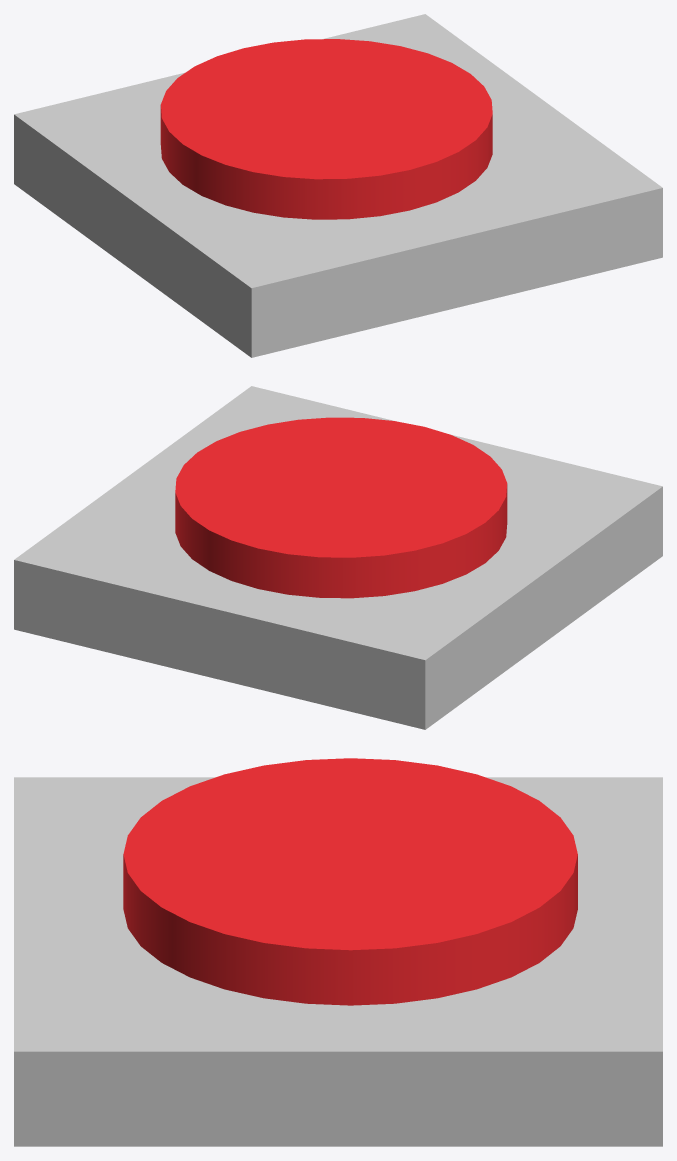
The model's file is кнопкааа.fbx.
The picture shows the model from 3 angles, top to bottom: view 1: azimuth 30°, elevation 25°; view 2: azimuth 150°, elevation 25°; view 3: azimuth 270°, elevation 25°; orthographic projection. The views are drawn at different scales.
Visible parts, largest first — view 1: кнопка.001, кнопка.002; view 2: кнопка.001, кнопка.002; view 3: кнопка.001, кнопка.002.
Boxes of the visible parts, bbox=[...] form: кнопка.001: bbox=[14, 14, 662, 357]; кнопка.002: bbox=[160, 39, 492, 219]; кнопка.001: bbox=[14, 386, 662, 729]; кнопка.002: bbox=[175, 417, 507, 598]; кнопка.001: bbox=[14, 777, 662, 1146]; кнопка.002: bbox=[123, 758, 577, 1005].
Bounding box in the file's own units: 200 × 51.2 × 200.
